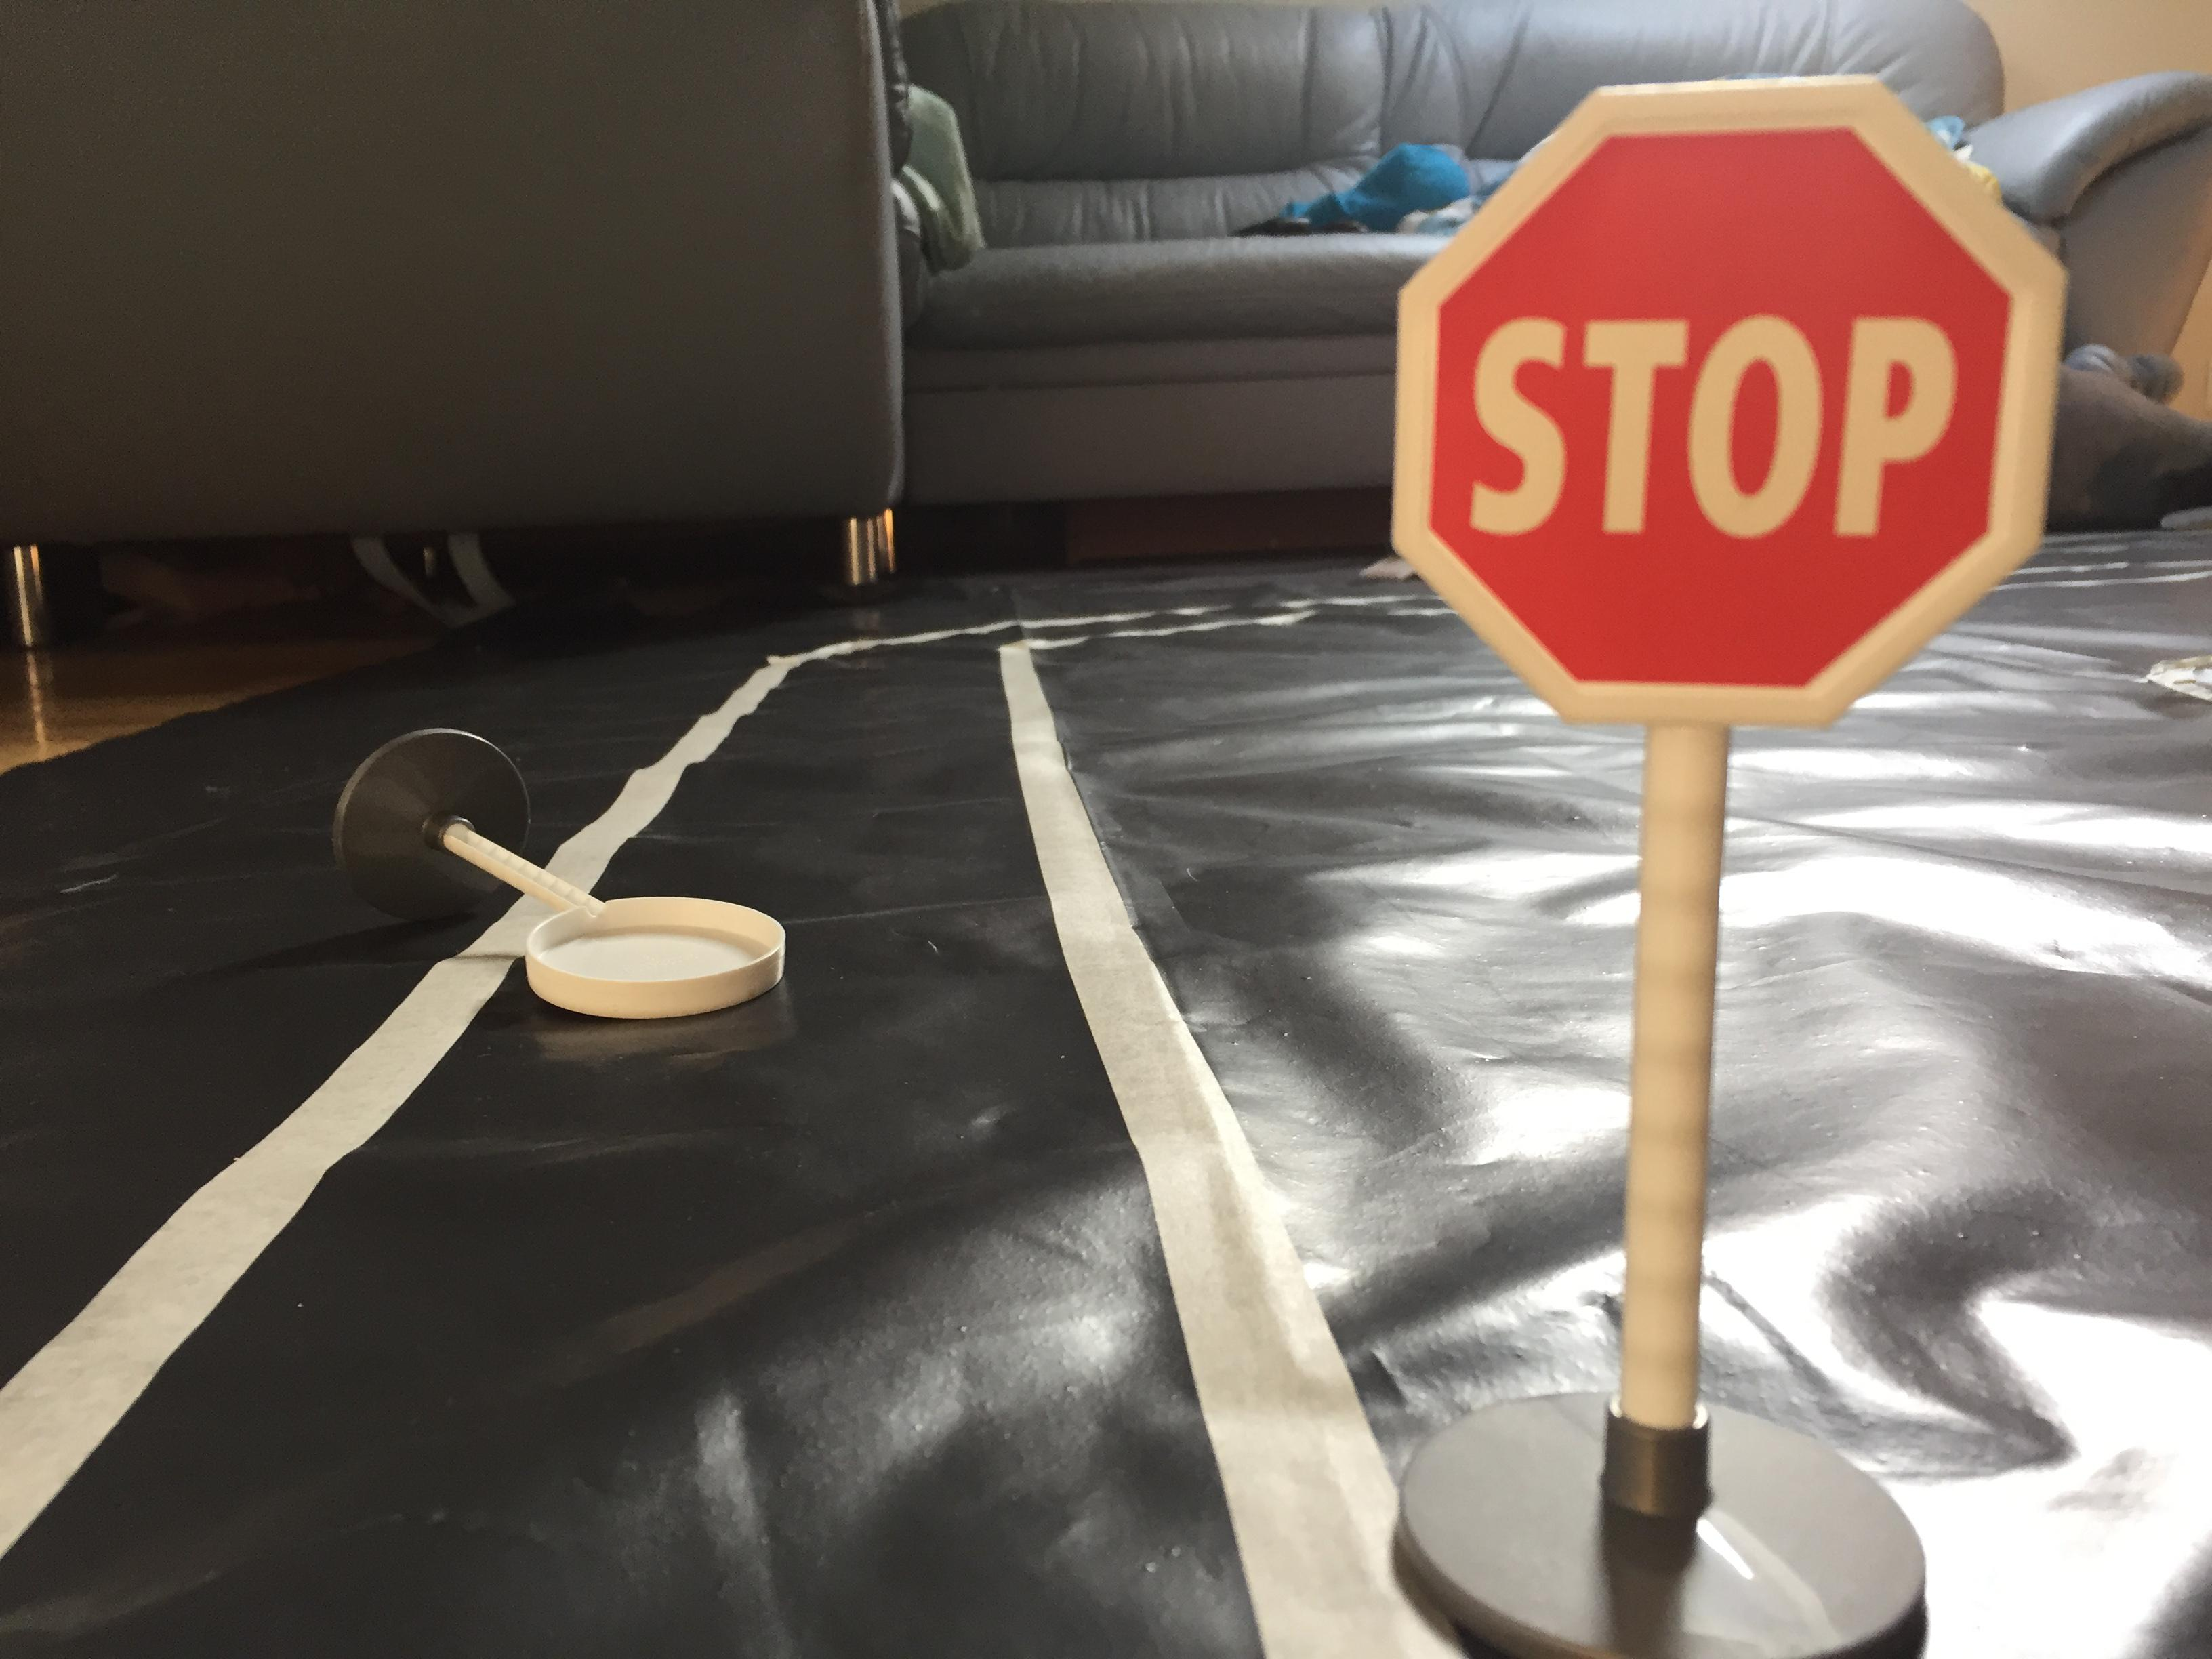stop: (1359, 61, 2087, 751)
